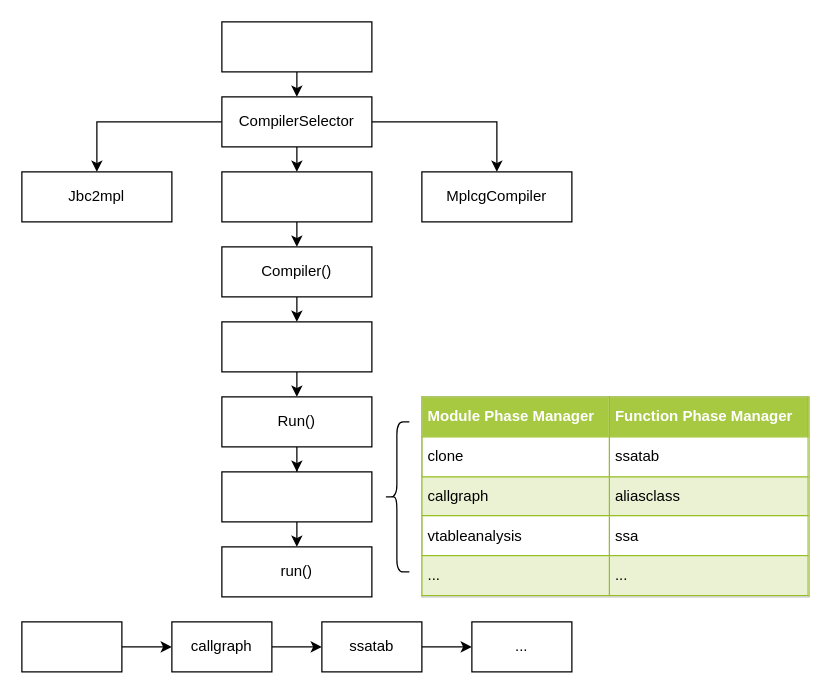
The diagram is 831 pixels wide and 694 high, and some of its shapes have lost their labels. Here are the shapes that lost their labels. From the top down, the centre of each, then its label:
At [296,46]: "CompilerFactory".
At [296,196]: "MapleCombComiler".
At [296,346]: "DriverRunner".
At [296,496]: "InterleavedManager".
At [71,646]: "clone".
